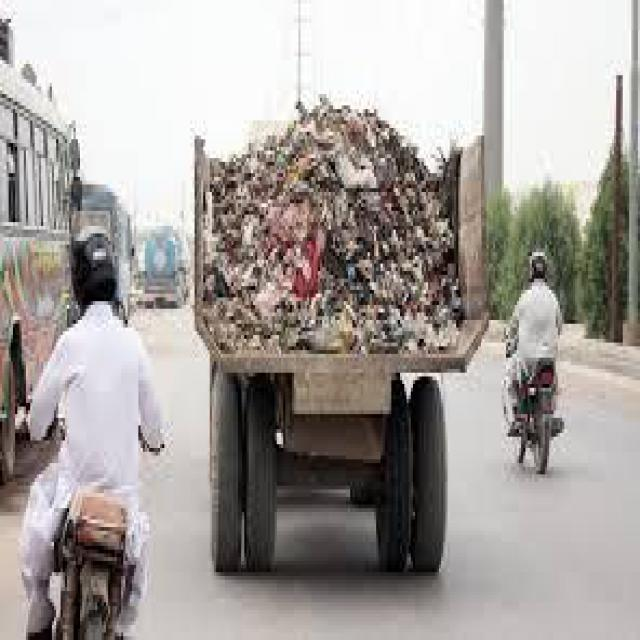garbage: (208, 75, 460, 354)
